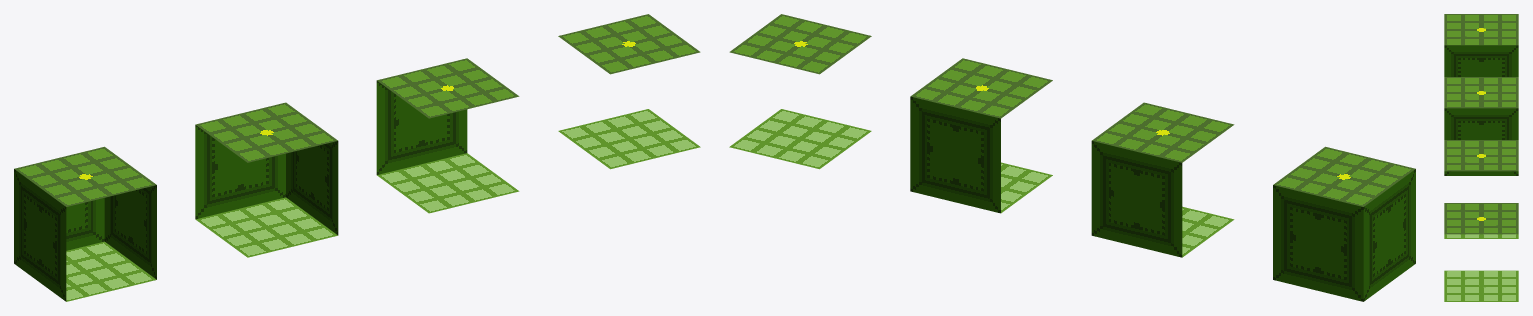
The model's file is Level1Tileset.glb.
The picture shows the model from 3 angles, left to right: view 1: azimuth 30°, elevation 25°; view 2: azimuth 150°, elevation 25°; view 3: azimuth 270°, elevation 25°; orthographic projection. The views are drawn at different scales.
Visible parts, largest first — view 1: zweiwand, dreiwand, einwand, keinwand; view 2: dreiwand, zweiwand, einwand, keinwand; view 3: zweiwand, keinwand, dreiwand, einwand.
Boxes of the visible parts, x1,y1,x2,y2 form: zweiwand: (195, 102, 338, 257); dreiwand: (14, 146, 156, 301); einwand: (376, 58, 519, 213); keinwand: (558, 14, 700, 169); dreiwand: (1273, 146, 1415, 301); zweiwand: (1091, 102, 1234, 257); einwand: (910, 58, 1052, 213); keinwand: (729, 14, 871, 169); zweiwand: (1444, 77, 1518, 175); keinwand: (1444, 203, 1518, 301); dreiwand: (1444, 14, 1518, 76); einwand: (1444, 140, 1518, 238).
Bounding box in the file's own units: 7 × 1 × 1.
4 materials, 4 textured.
